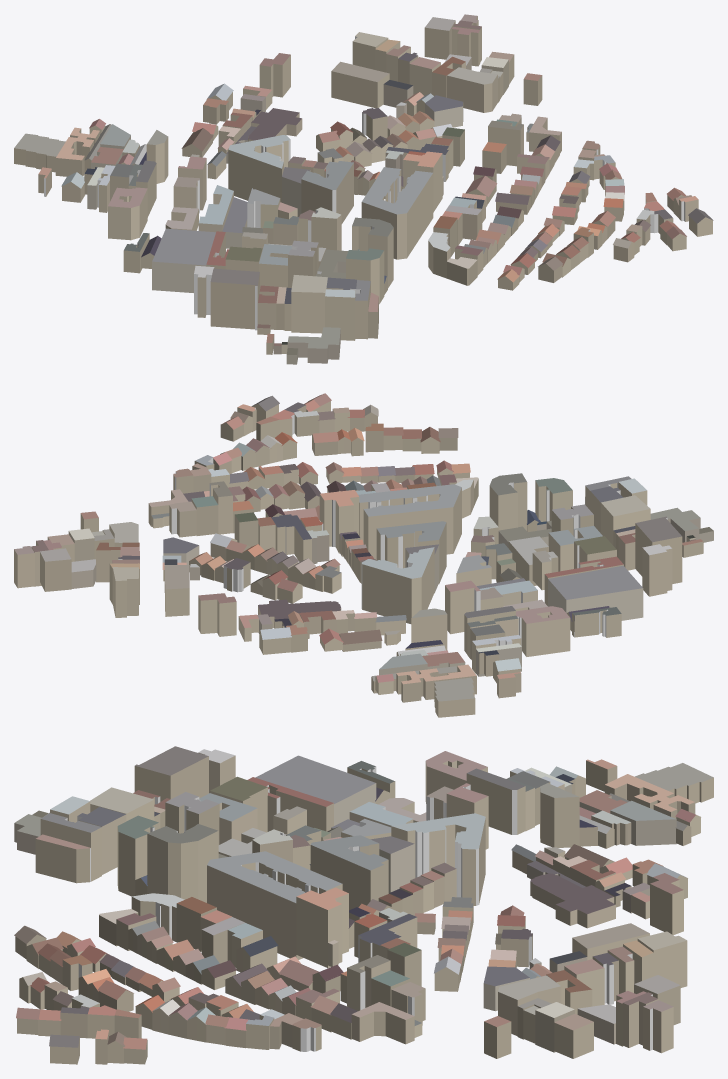
3 renders of one model, top to bottom at view 1: azimuth 30°, elevation 25°; view 2: azimuth 150°, elevation 25°; view 3: azimuth 270°, elevation 25°, orthographic. The views are drawn at different scales.
Visible parts, largest first — view 1: tuile; view 2: tuile; view 3: tuile.
Part boxes in pixels (<box>): tuile: <box>14,14,713,364</box>; tuile: <box>14,393,713,717</box>; tuile: <box>14,746,713,1064</box>.
Bounding box in the file's own units: 261 × 35.35 × 261.
